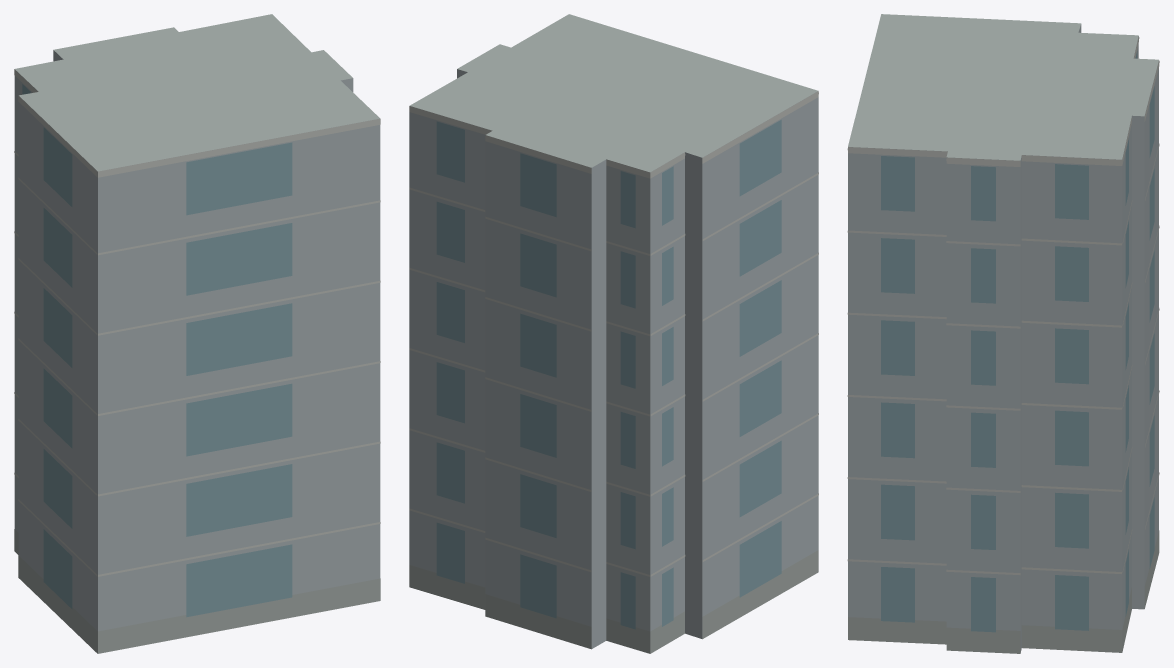
File: survey-upis-32788716.glb
The picture shows the model from 3 angles, left to right: view 1: azimuth 30°, elevation 25°; view 2: azimuth 150°, elevation 25°; view 3: azimuth 270°, elevation 25°; orthographic projection. The views are drawn at different scales.
Parts seen in each view (by area): view 1: survey-upis-32788716.tmp; view 2: survey-upis-32788716.tmp; view 3: survey-upis-32788716.tmp.
Part boxes in pixels (bbox=[...]): survey-upis-32788716.tmp: bbox=[14, 14, 380, 653]; survey-upis-32788716.tmp: bbox=[409, 14, 818, 653]; survey-upis-32788716.tmp: bbox=[847, 14, 1159, 653].
Size of the model in its own units: 12.09 by 18.9 by 10.84.
